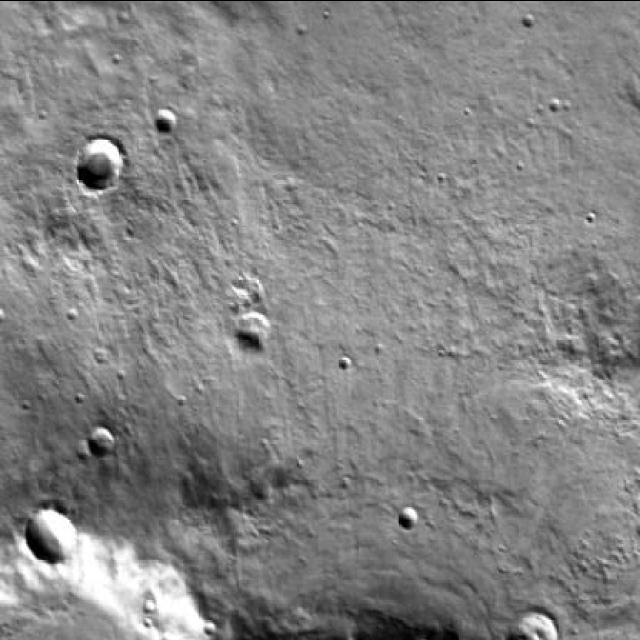crater: (0, 525, 234, 640), (26, 504, 76, 562), (77, 136, 123, 188), (236, 309, 273, 351), (515, 608, 561, 640), (86, 423, 110, 451), (156, 110, 178, 134), (398, 508, 420, 526)
